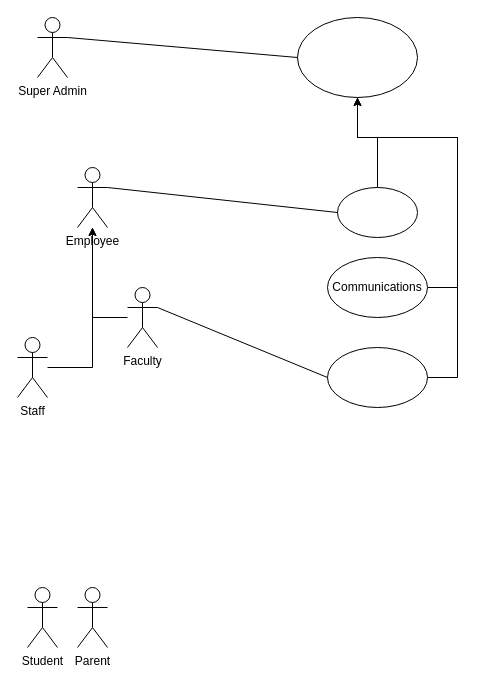
Some shapes in this 483 by 686 pixel diagram are drawn without their labels. The shapes that lost their labels are listed below. From the top down, each one's centre as x and y in pixels, then its label:
At point 357,57: "Institute Level Management".
At point 377,212: "HR Payroll".
At point 377,377: "Subject matter".
